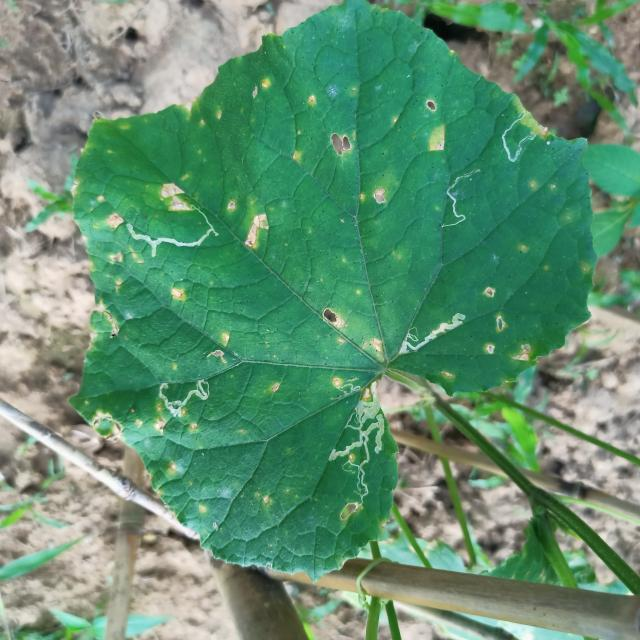disease_cucumber: (71, 190, 139, 288), (286, 81, 357, 168), (312, 300, 382, 388), (95, 410, 207, 458), (478, 278, 536, 365), (225, 192, 276, 251), (412, 92, 454, 160), (158, 175, 194, 217), (248, 481, 282, 518), (358, 181, 397, 208)
